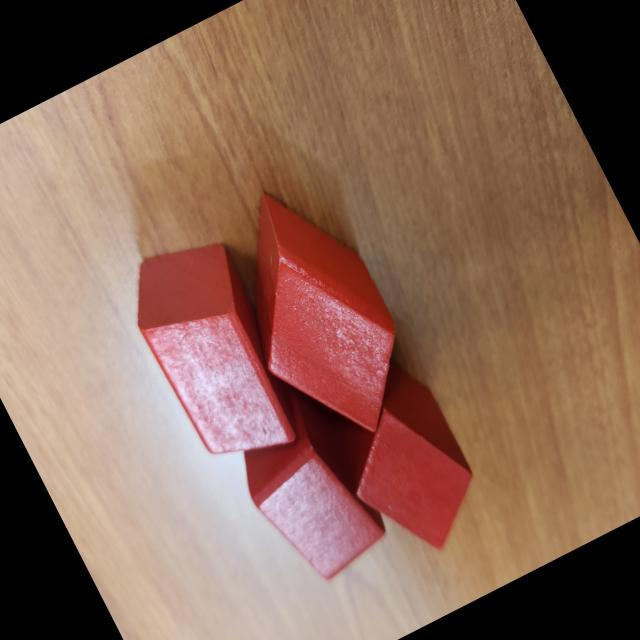red: (194, 165, 436, 462), (111, 223, 322, 483), (215, 372, 412, 598), (308, 347, 501, 575)
